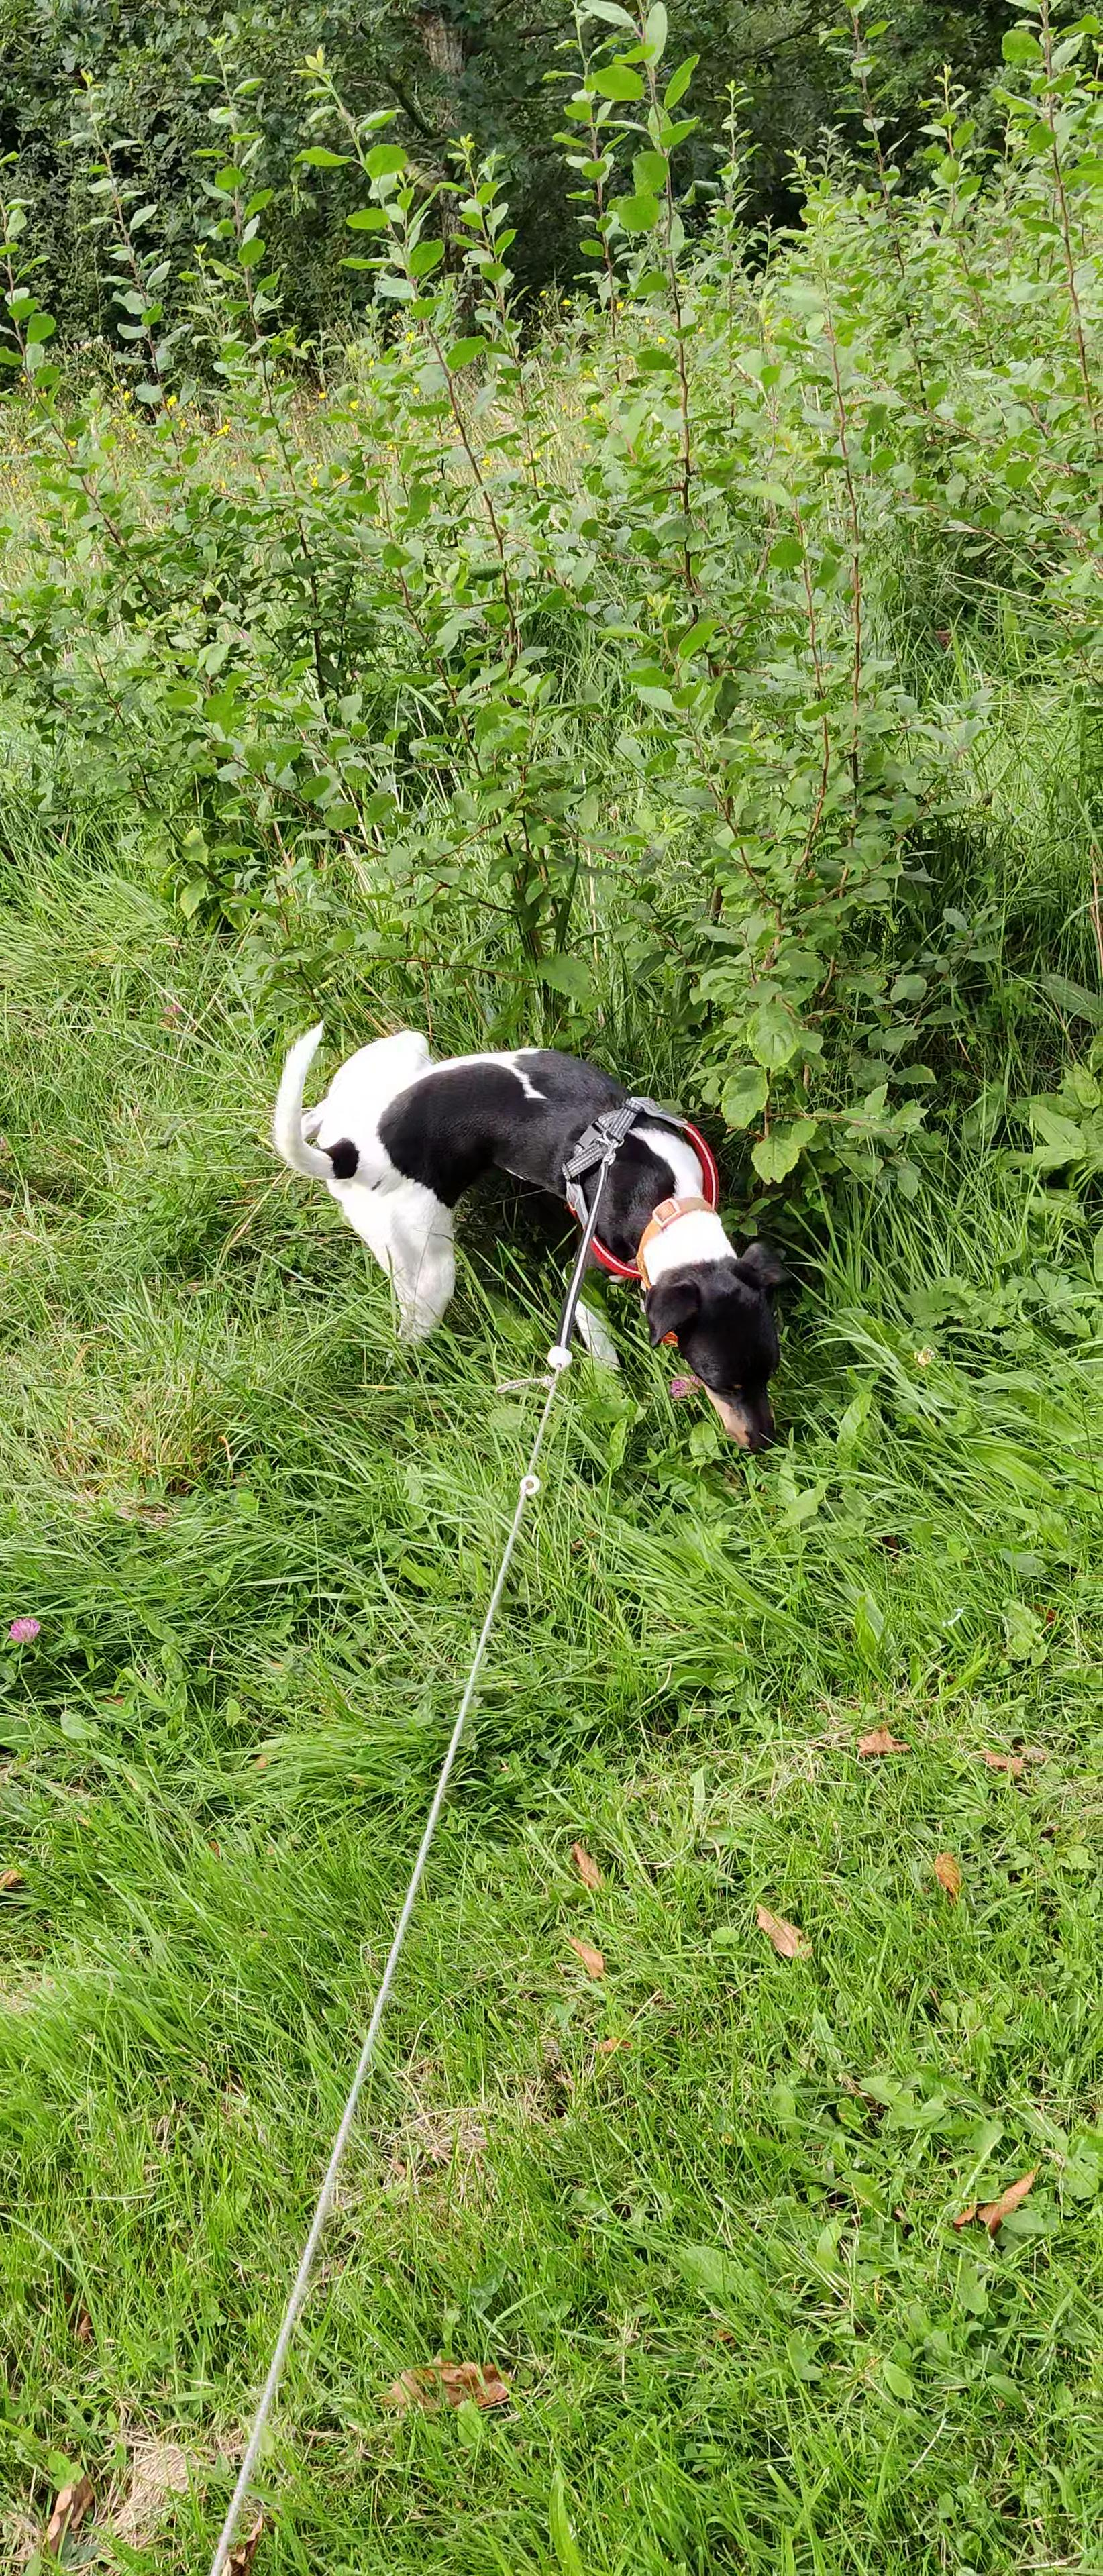Dog: (250, 979, 822, 1474)
